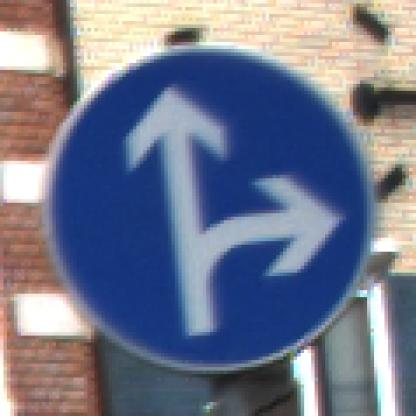Straight or Right: (36, 39, 382, 382)
